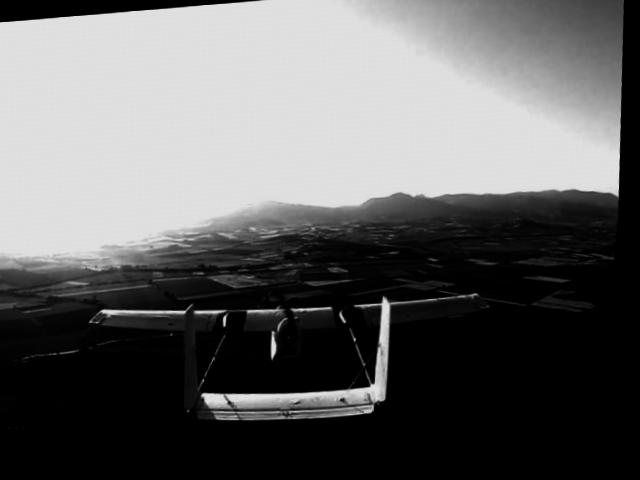hedef: (79, 244, 519, 449)
